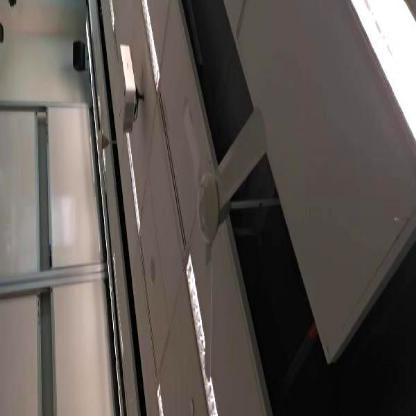light_on: (348, 0, 415, 157), (182, 245, 223, 415), (135, 0, 167, 92), (121, 122, 144, 245), (151, 373, 168, 415), (106, 0, 118, 34)
